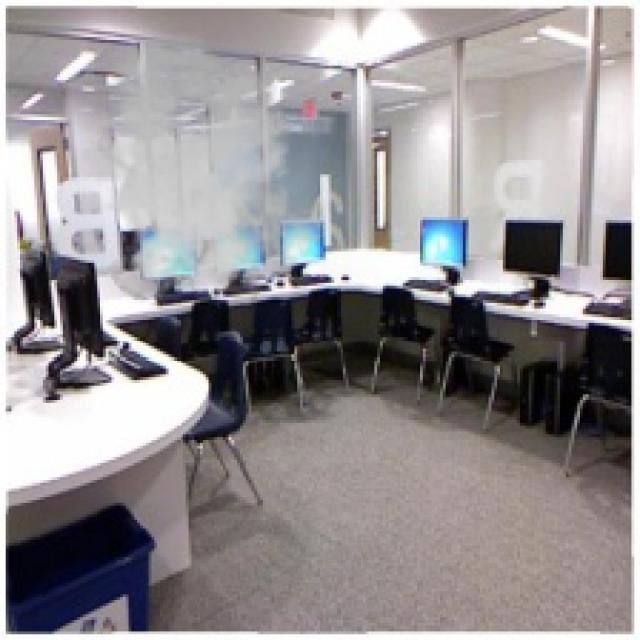Smoke: (66, 31, 326, 306)
